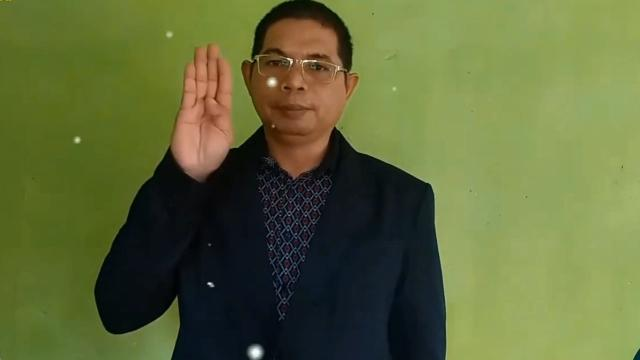B: (176, 41, 234, 177)
